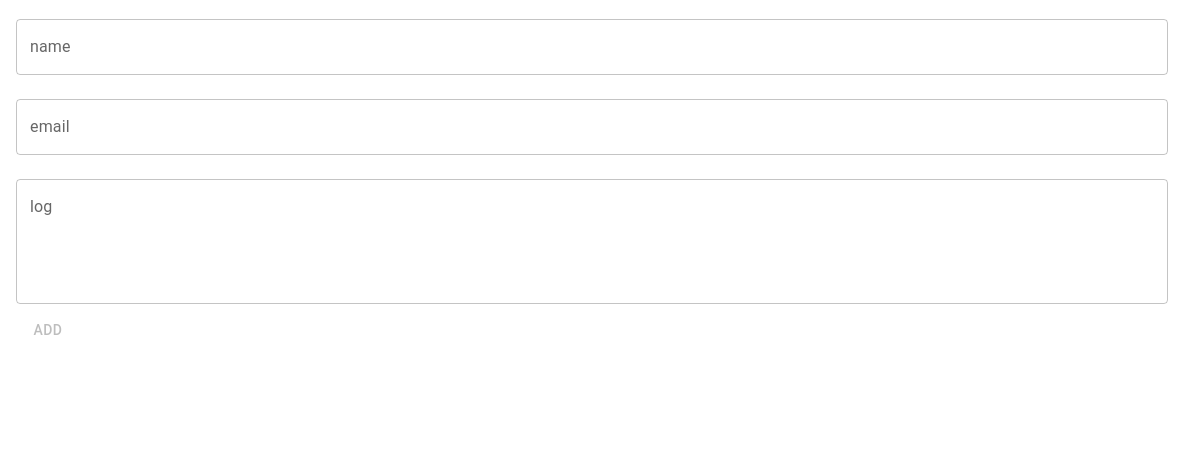
Test case: Logger form wrapper › Should form be invalid
The image size is (1185, 461).
Type "1" into the field labelled "name".
click(592, 47); type("1")  # box [16,19,1168,75]
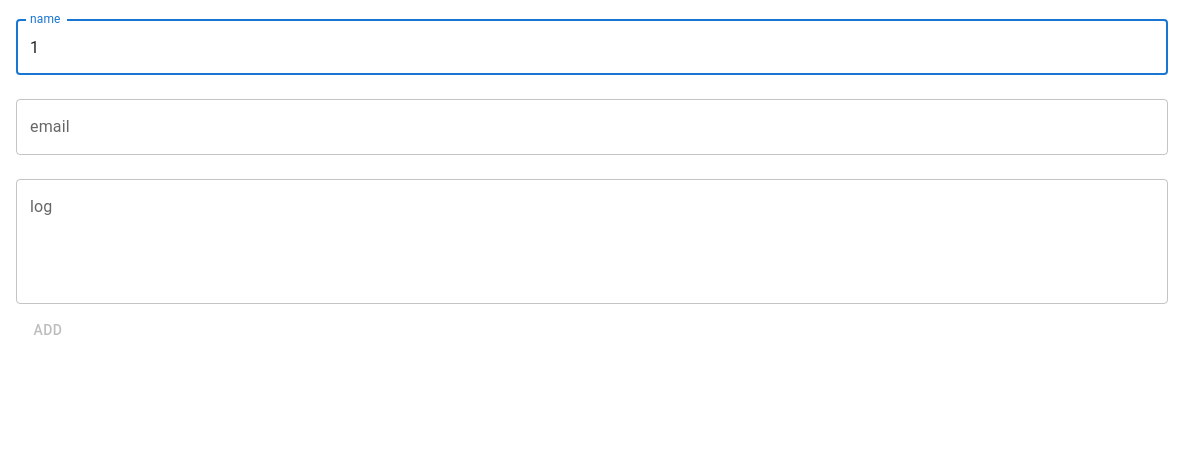
Type "2" into the field labelled "email".
click(592, 127); type("2")  # box [16,99,1168,155]
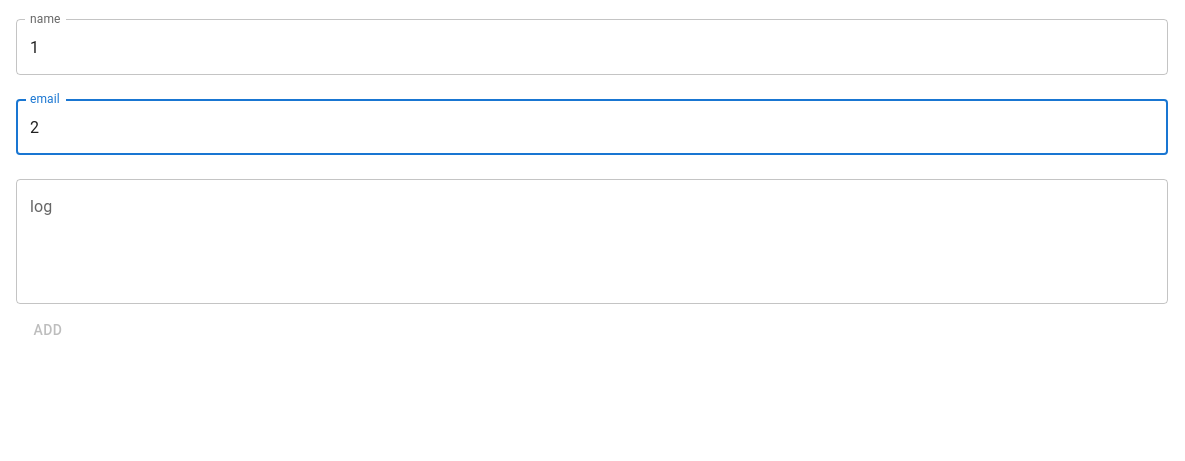
Type "3" into the text box labelled "log".
click(592, 242); type("3")  # box [30,196,1154,288]
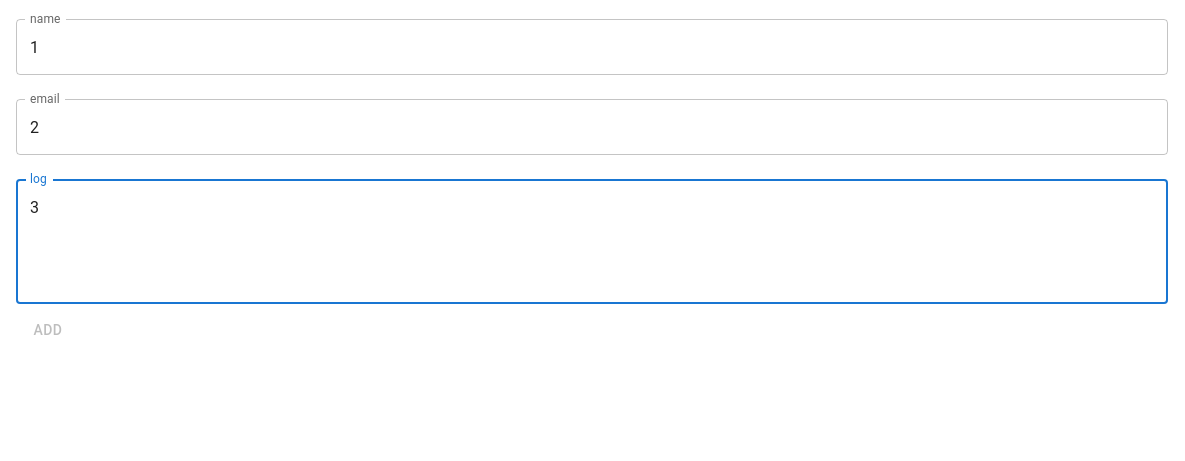
Clear the field labelled "name" at [592, 47], box [16,19,1168,75]
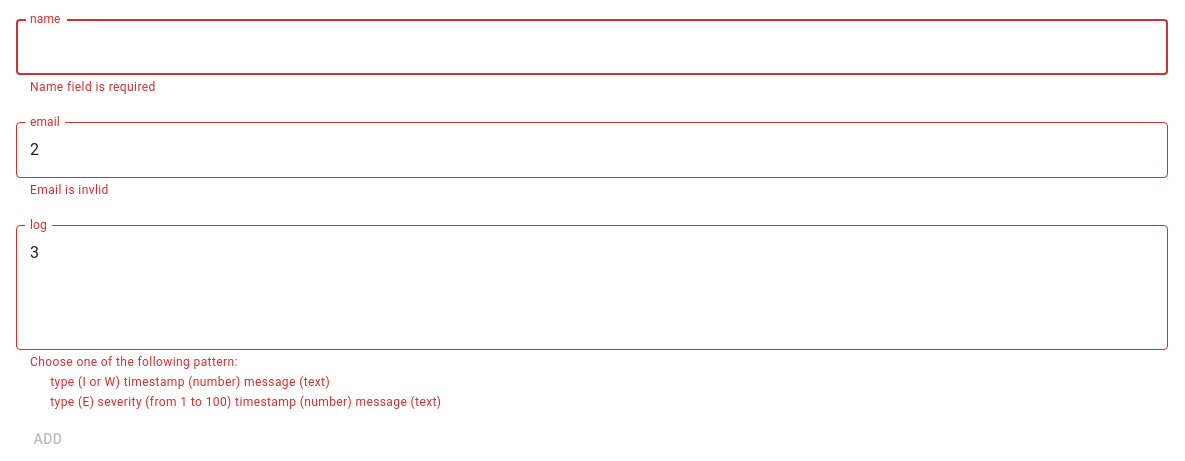
Now the text "Email is invlid" is shown, box [30,183,109,197]
Now the text "Choose one of the following pattern:" is shown, box [30,355,441,409]
Now the text "Name field is required" is shown, box [30,80,156,94]
